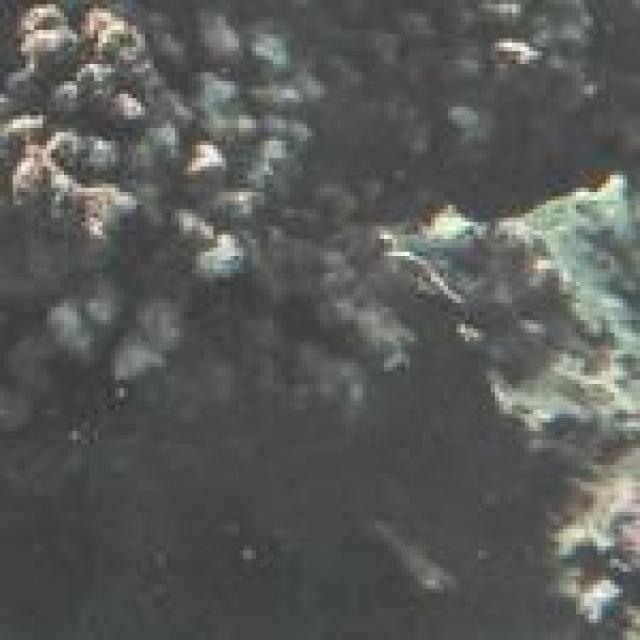Dead Coral: (0, 0, 290, 390)
